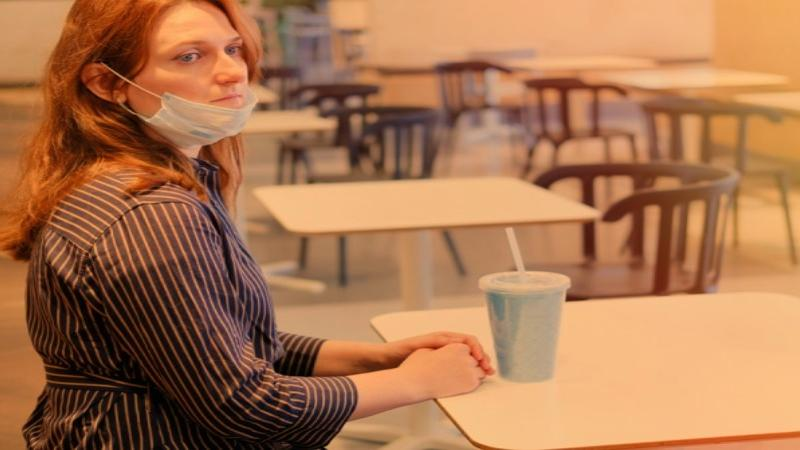mask_weared_incorrect: (51, 1, 256, 148)
